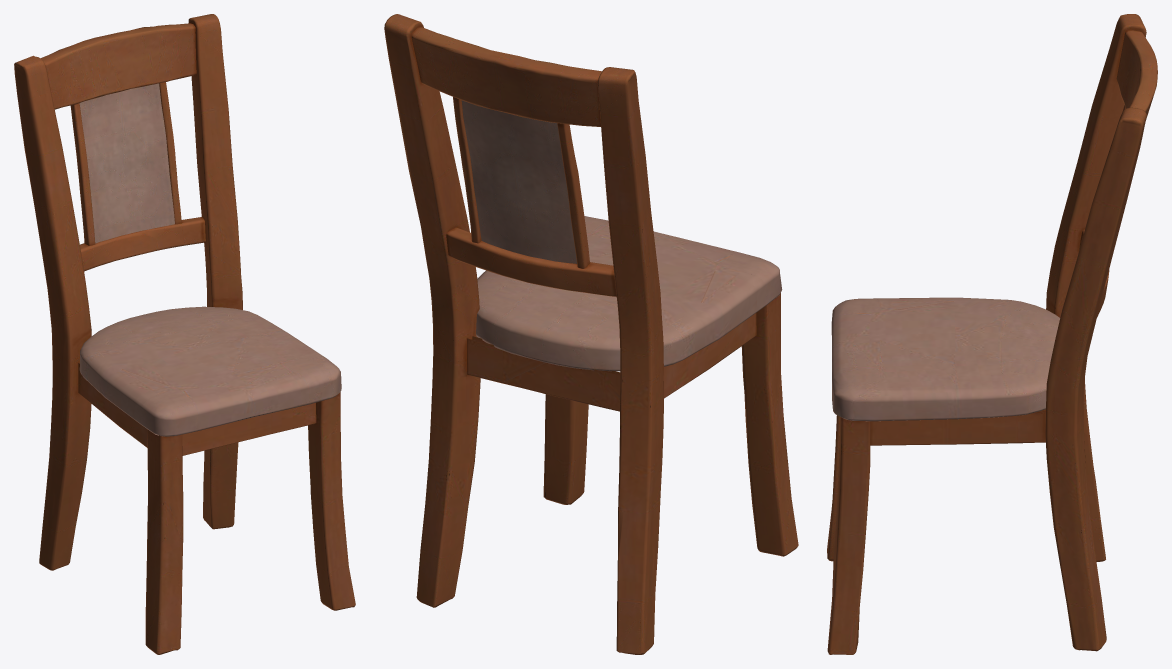
Rendered from wooden_dining_chair.glb.
3 views of the same model, side by side, from view 1: azimuth 30°, elevation 25°; view 2: azimuth 150°, elevation 25°; view 3: azimuth 270°, elevation 25° (orthographic). The views are drawn at different scales.
Parts seen in each view (by area): view 1: geometry_0; view 2: geometry_0; view 3: geometry_0.
Part boxes in pixels (x1,y1,x2,y2): geometry_0: [14, 14, 355, 654]; geometry_0: [384, 14, 798, 654]; geometry_0: [827, 14, 1157, 654].
Size of the model in its own units: 0.4276 by 1 by 0.5596.
1 material, 1 textured.
